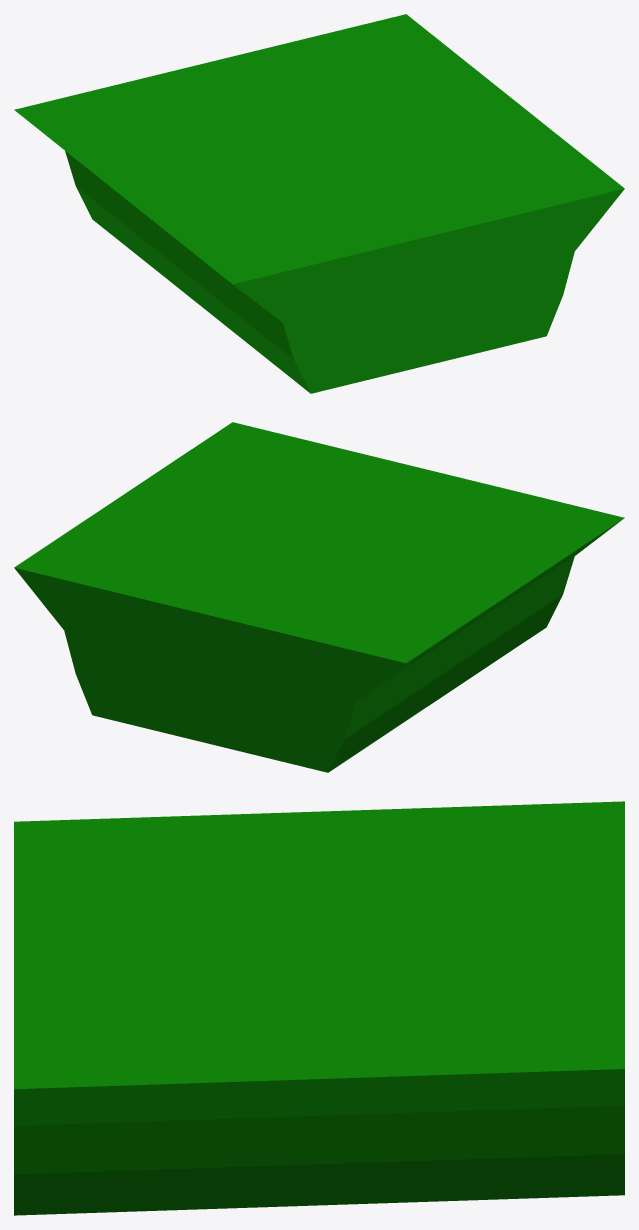
The model's file is Verde5.fbx.
3 renders of one model, top to bottom at view 1: azimuth 30°, elevation 25°; view 2: azimuth 150°, elevation 25°; view 3: azimuth 270°, elevation 25°, orthographic. The views are drawn at different scales.
Visible parts, largest first — view 1: 7_Verde; view 2: 7_Verde; view 3: 7_Verde.
Boxes of the visible parts, x1,y1,x2,y2 form: 7_Verde: (14, 14, 624, 393); 7_Verde: (14, 422, 624, 772); 7_Verde: (14, 801, 624, 1215).
Bounding box in the file's own units: 2.1 × 0.7324 × 2.03.
